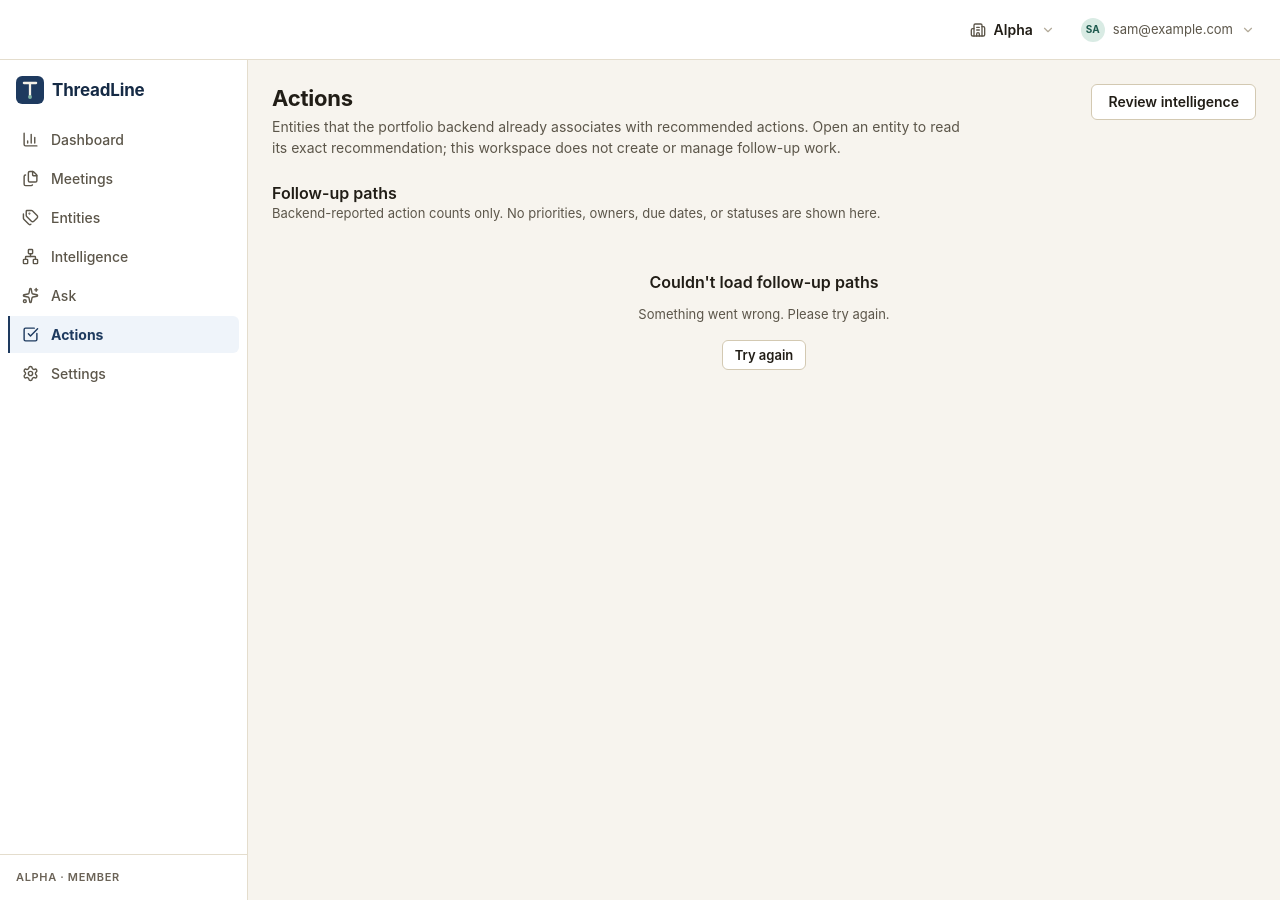
it: actions workspace › retries portfolio failures and preserves the entity route
Expected: the heading "Couldn't load follow-up paths" is shown, [650, 271, 878, 293]
Click the button "Try again": (764, 355) [722, 340, 806, 370]
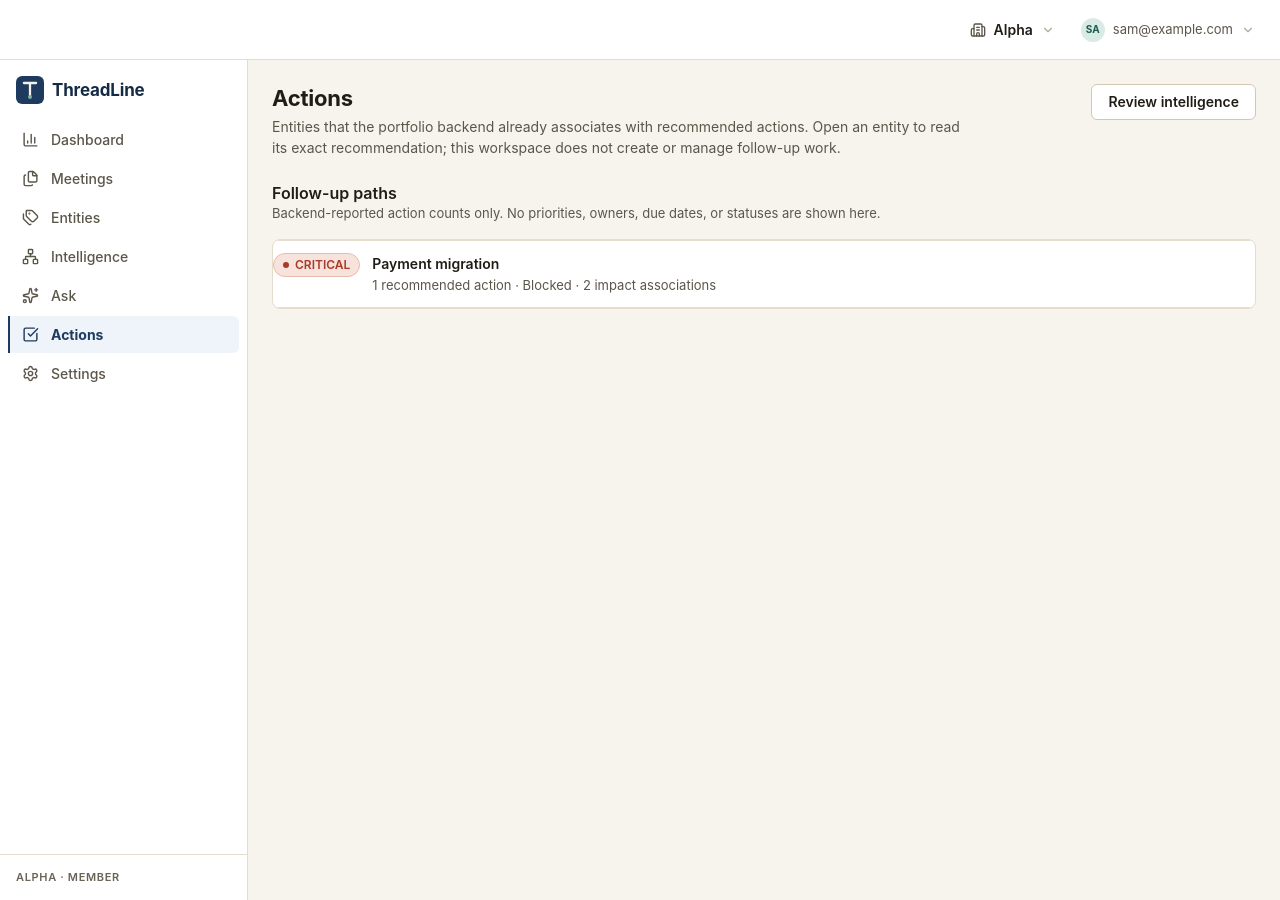
Expected: the link "Payment migration" is shown, [372, 255, 499, 272]
